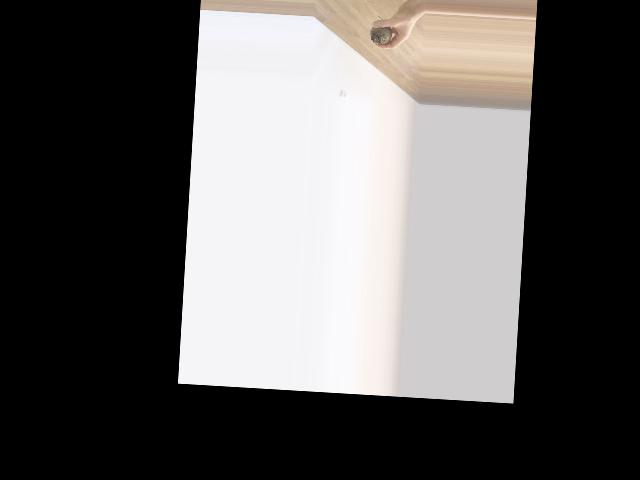beet: (369, 15, 393, 45)
